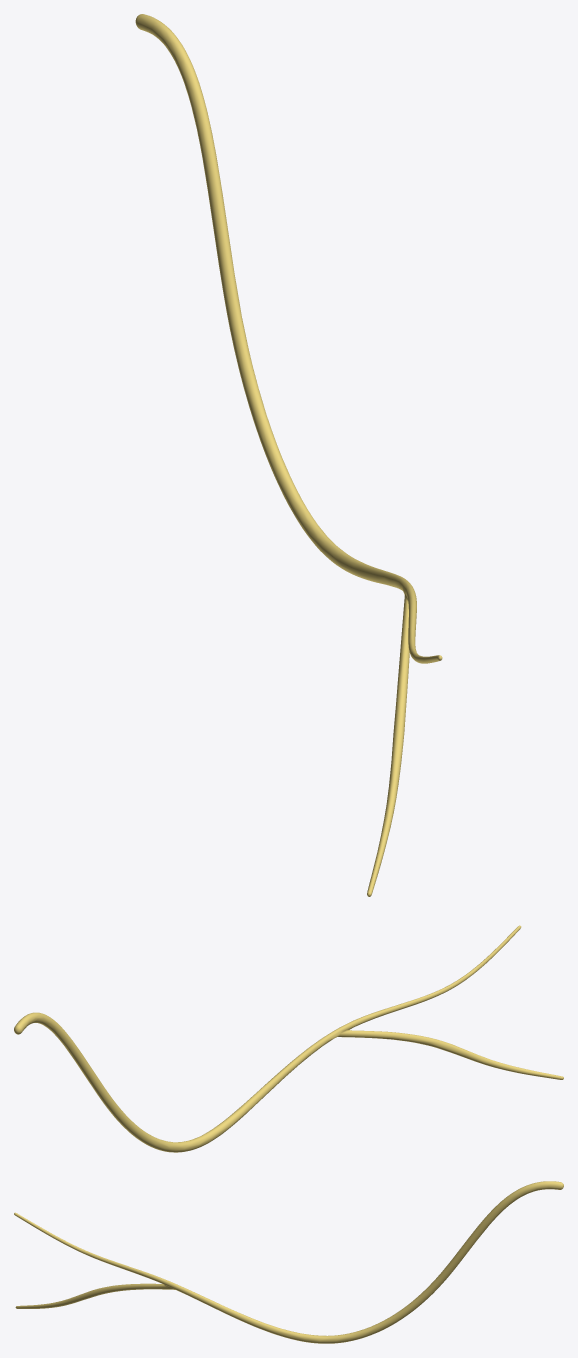
The model's file is Buccal branch of left facial nerve.fbx.
3 views of the same model, one above another, from view 1: azimuth 30°, elevation 25°; view 2: azimuth 150°, elevation 25°; view 3: azimuth 270°, elevation 25° (orthographic). The views are drawn at different scales.
Visible parts, largest first — view 1: Buccal branch of left facial nerve; view 2: Buccal branch of left facial nerve; view 3: Buccal branch of left facial nerve.
Part boxes in pixels (x1,y1,x2,y2): Buccal branch of left facial nerve: (135,14,442,896); Buccal branch of left facial nerve: (14,925,563,1152); Buccal branch of left facial nerve: (14,1181,563,1343).
Bounding box in the file's own units: 3.63 × 4.35 × 10.57.
